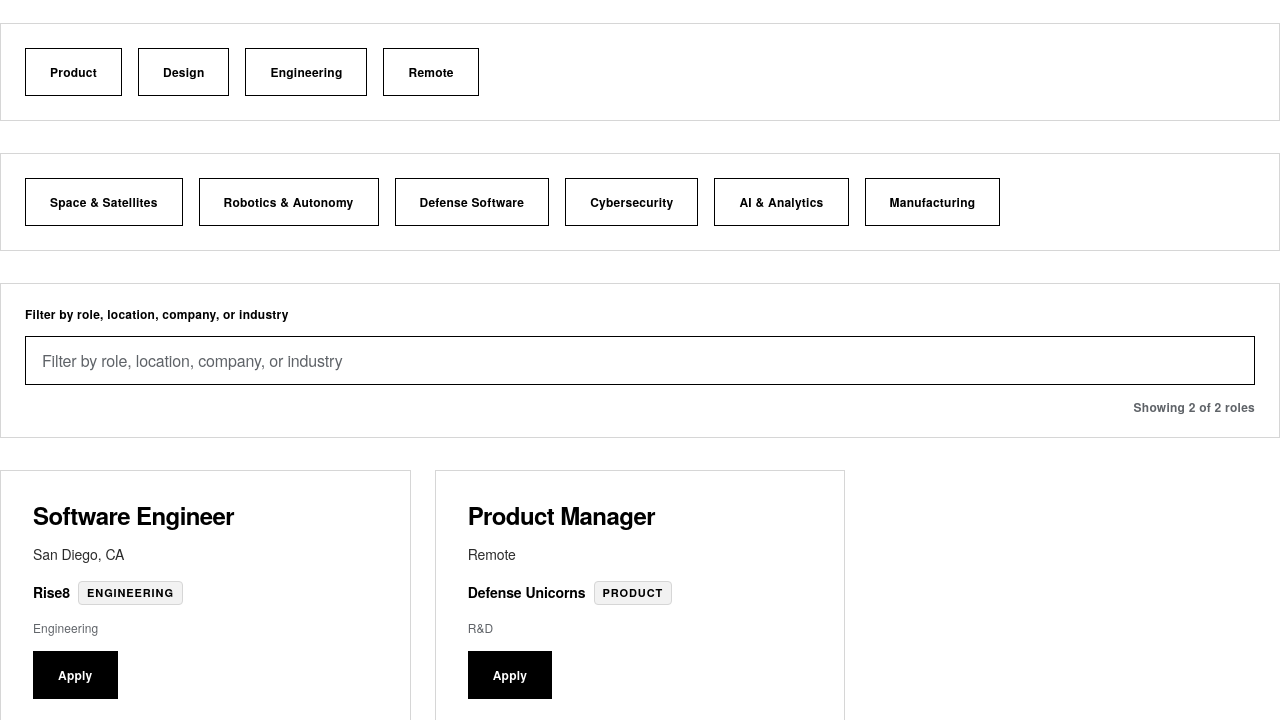
it: JobsList › filtering › filters by location case-insensitively
(page scrolled)
Expected: the heading "Software Engineer" is shown, [33,498,234,532]
Type "remote" into the search field at (640, 361), box [25,336,1255,385]
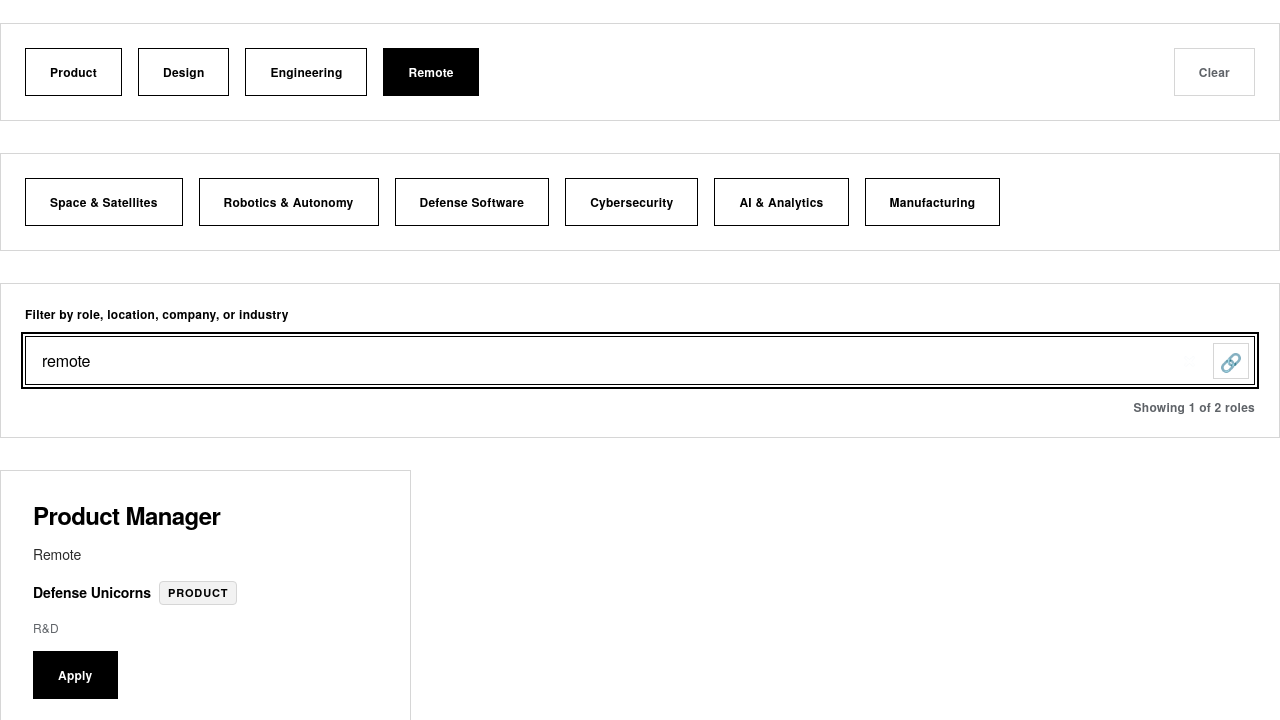
Expected: the heading "Product Manager" is shown, [33,498,220,532]
Expected: the heading "Software Engineer" is gone
Expected: the text "Showing 1 of 2 roles" is shown, [1134,401,1255,413]
